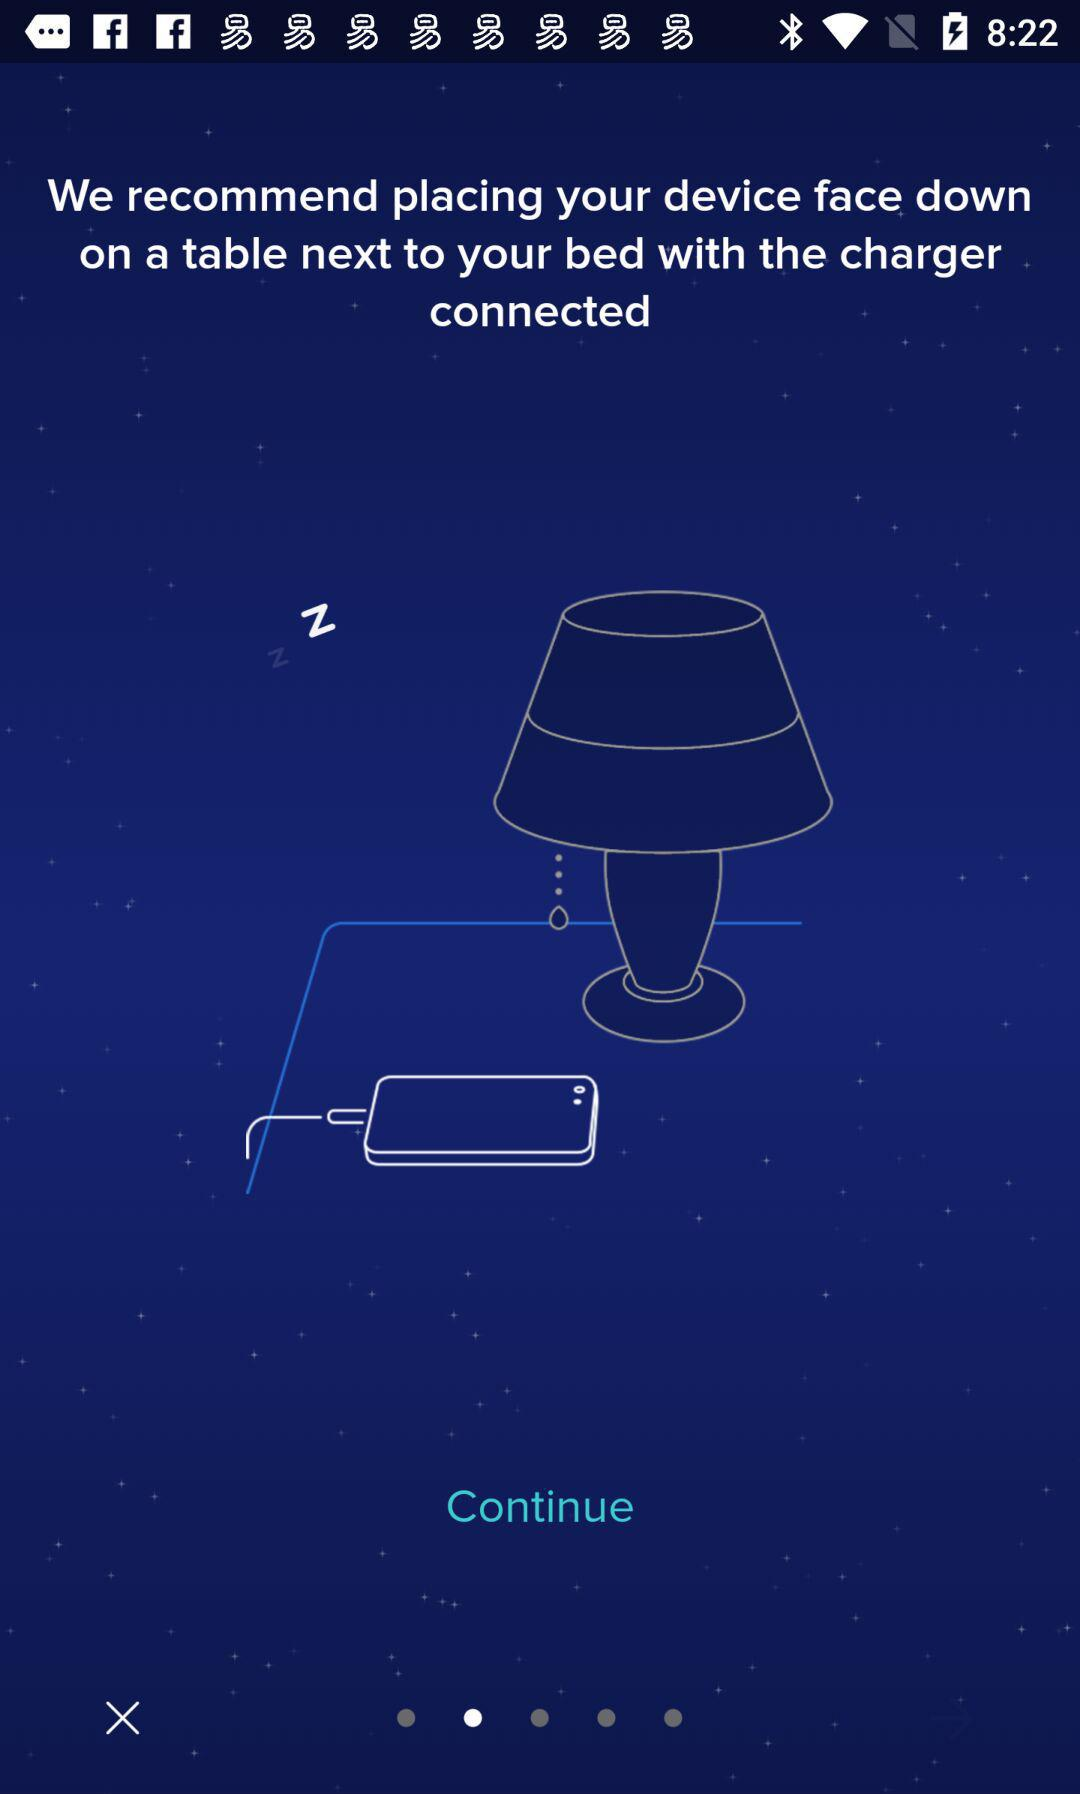Icon: (105, 1700, 142, 1735)
Image: (243, 587, 835, 1196)
PageIndicator: (396, 1707, 685, 1730)
Text: (45, 178, 1033, 331), (447, 1486, 635, 1526)
UpperTaskBar: (1, 1, 1080, 64)
